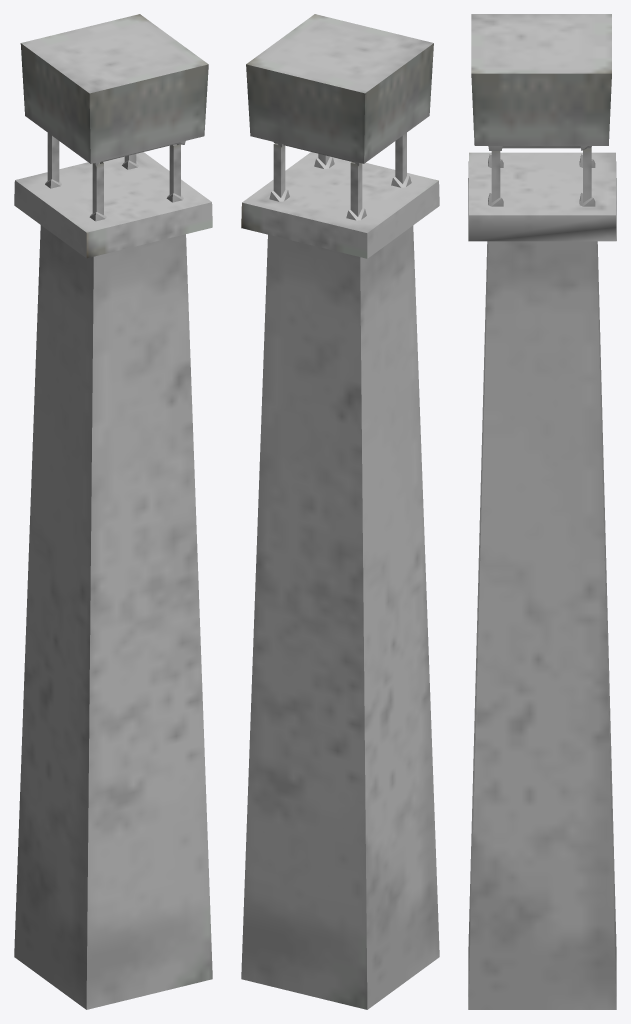
The model's file is general_obj_stonepillar_02_lod_01.fbx.
3 views of the same model, side by side, from view 1: azimuth 30°, elevation 25°; view 2: azimuth 150°, elevation 25°; view 3: azimuth 270°, elevation 25° (orthographic). The views are drawn at different scales.
Visible parts, largest first — view 1: Object08; view 2: Object08; view 3: Object08.
Boxes of the visible parts, x1,y1,x2,y2 form: Object08: (14, 14, 212, 1009); Object08: (241, 14, 439, 1009); Object08: (468, 14, 616, 1009).
Bounding box in the file's own units: 0.8048 × 5.57 × 0.7989.
